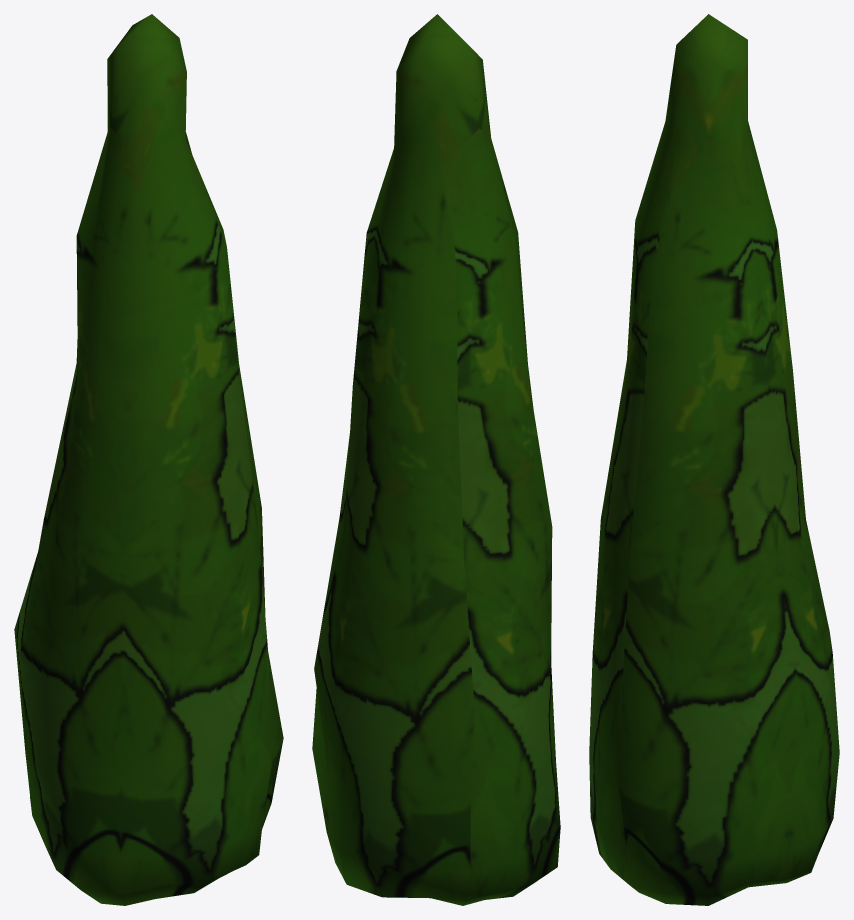
File: SM_Bush_Tall_2.fbx
The picture shows the model from 3 angles, left to right: view 1: azimuth 30°, elevation 25°; view 2: azimuth 150°, elevation 25°; view 3: azimuth 270°, elevation 25°; orthographic projection.
Visible parts, largest first — view 1: SM_Bush_Tall_2; view 2: SM_Bush_Tall_2; view 3: SM_Bush_Tall_2.
Boxes of the visible parts, x1,y1,x2,y2 form: SM_Bush_Tall_2: [14, 14, 283, 905]; SM_Bush_Tall_2: [312, 14, 560, 905]; SM_Bush_Tall_2: [589, 14, 839, 905].
Bounding box in the file's own units: 1.51 × 1.49 × 5.72.
